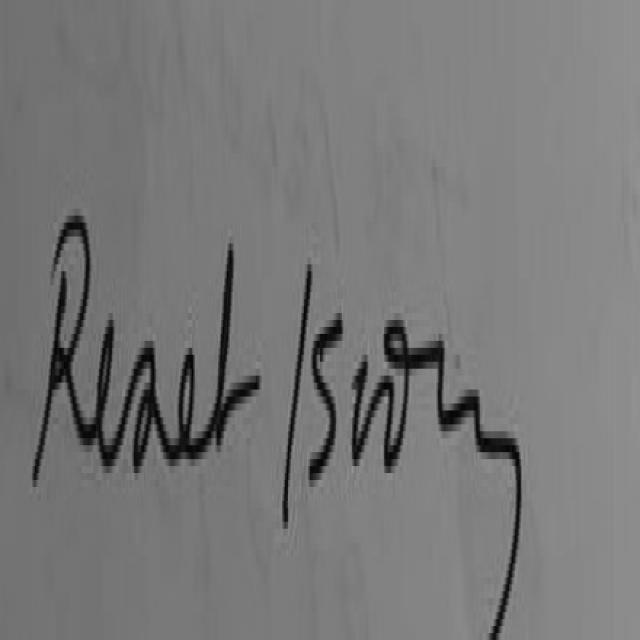0: (384, 320, 410, 475), (353, 358, 371, 463)
5: (310, 313, 343, 477)
R: (32, 216, 96, 483)
e: (177, 348, 209, 466), (96, 320, 115, 463)
s: (114, 341, 154, 480)
t: (214, 243, 260, 442)
